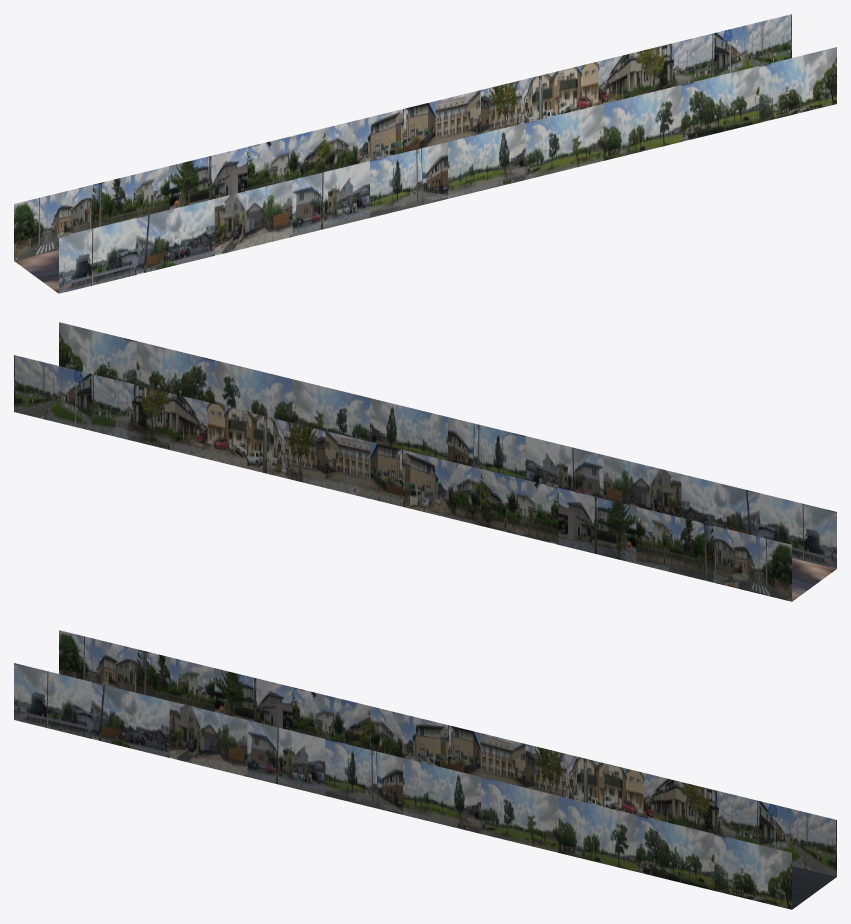
The model's file is KakitaPark-ver2.fbx.
3 renders of one model, top to bottom at view 1: azimuth 30°, elevation 25°; view 2: azimuth 150°, elevation 25°; view 3: azimuth 330°, elevation 25°, orthographic.
Parts seen in each view (by area): view 1: 平面.002, 平面.001, 平面; view 2: 平面.001, 平面.002, 平面; view 3: 平面.002, 平面.001, 平面.
Part boxes in pixels (x1,y1,x2,y2): 平面.002: [59, 47, 836, 293]; 平面.001: [14, 14, 791, 260]; 平面: [14, 250, 58, 293]; 平面.001: [14, 355, 791, 601]; 平面.002: [59, 322, 836, 568]; 平面: [792, 558, 836, 601]; 平面.002: [14, 663, 791, 909]; 平面.001: [59, 630, 836, 876]; 平面: [792, 866, 836, 909].
Size of the model in its own units: 2000 by 140 by 200.
